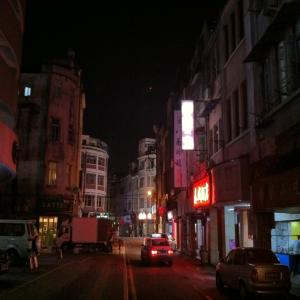Vehicle-registration-plate: (160, 252, 168, 256)
